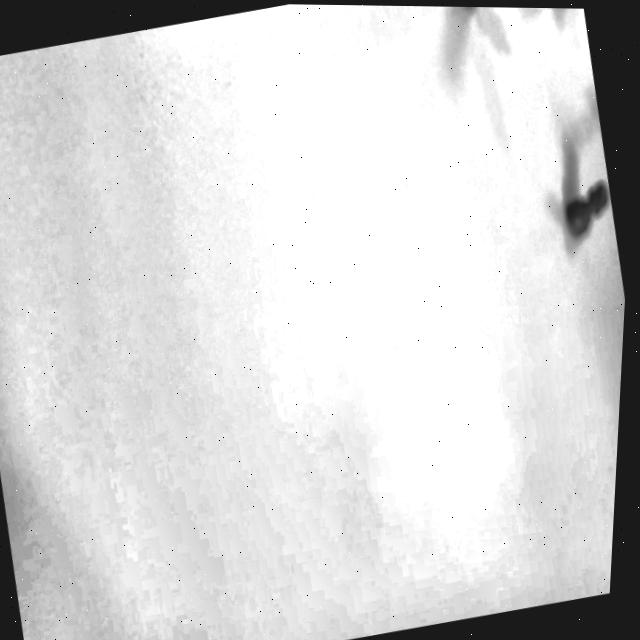black-pawn: (546, 171, 621, 256), (542, 8, 585, 25)
